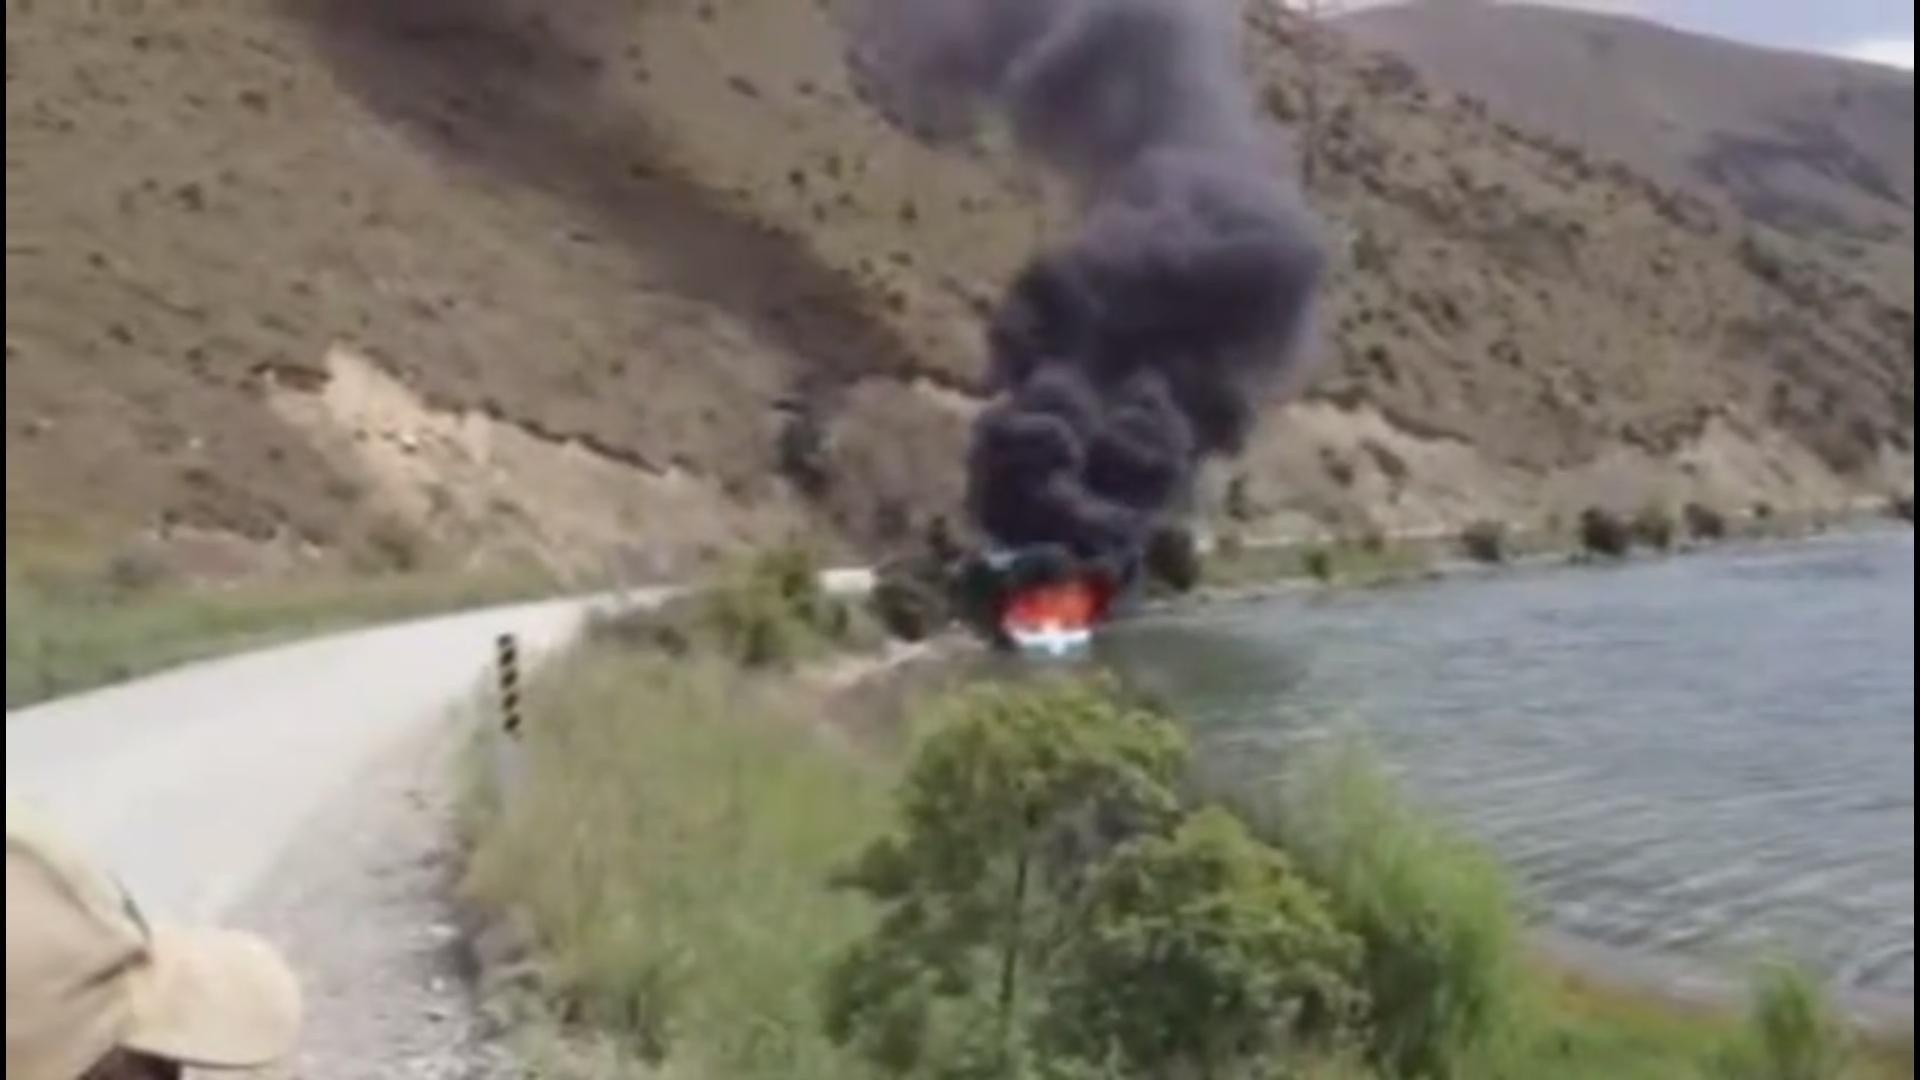fire: (1009, 582, 1098, 640)
